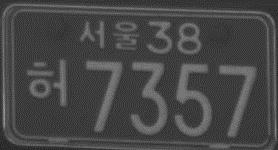3: (130, 60, 170, 135), (145, 20, 174, 55)
5: (172, 61, 213, 138)
7: (84, 58, 125, 134), (217, 62, 257, 138)
8: (176, 22, 203, 56)
서울_O: (78, 19, 140, 53)
허: (25, 58, 70, 107)
